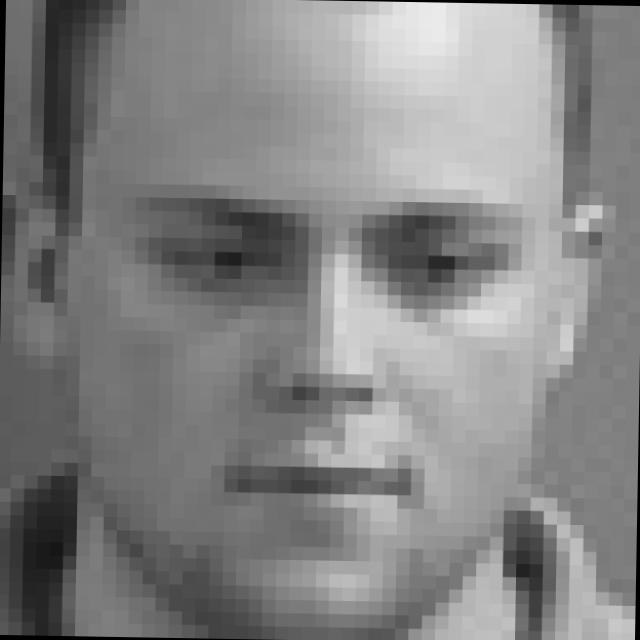neutral: (108, 172, 527, 549)
